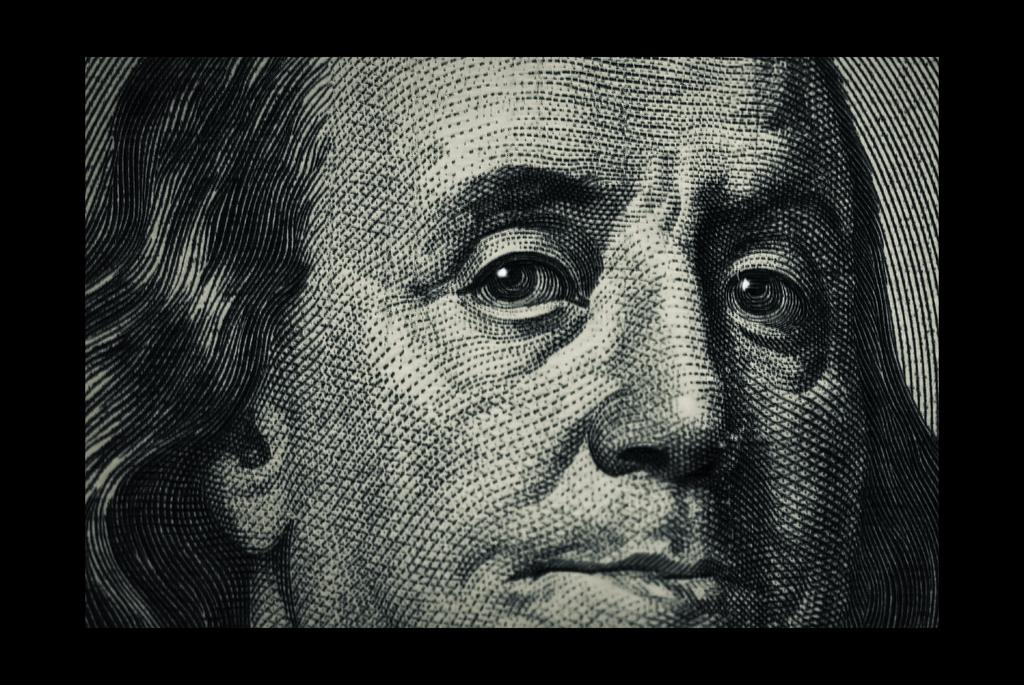Sem Máscara: (282, 54, 862, 626)
